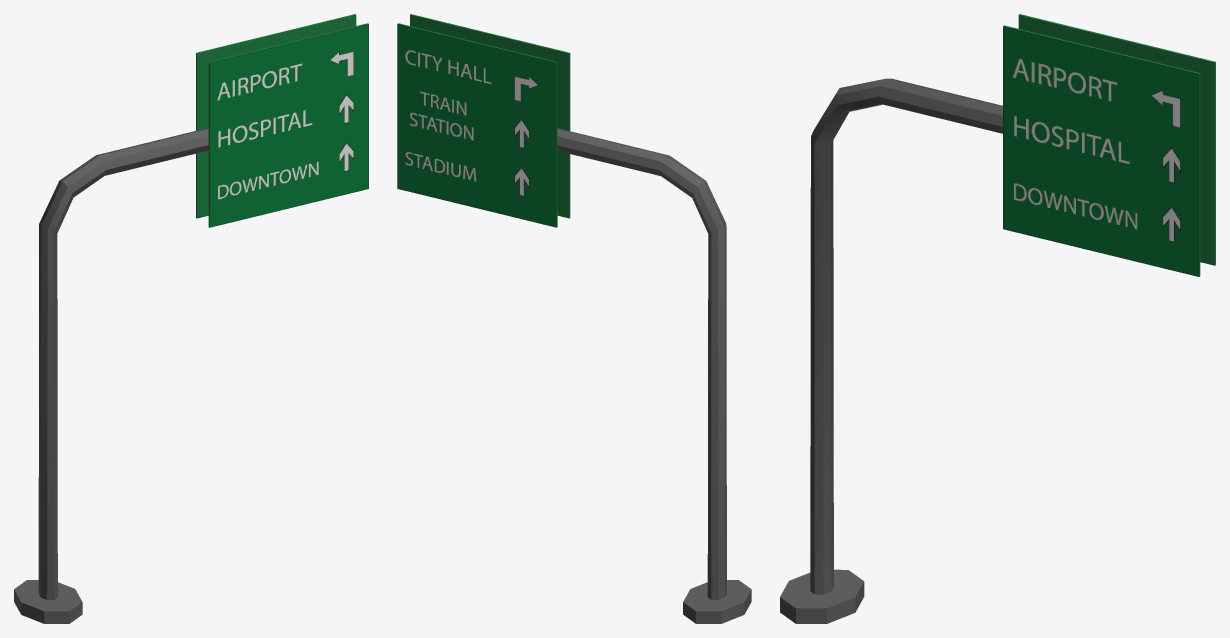
The model's file is road-sign-single.fbx.
3 views of the same model, side by side, from view 1: azimuth 30°, elevation 25°; view 2: azimuth 150°, elevation 25°; view 3: azimuth 330°, elevation 25° (orthographic). The views are drawn at different scales.
Visible parts, largest first — view 1: 2.1 road-sign-sinlge; view 2: 2.1 road-sign-sinlge; view 3: 2.1 road-sign-sinlge.
Boxes of the visible parts, left/top/right/bottom form: 2.1 road-sign-sinlge: left=14, top=14, right=368, bottom=623; 2.1 road-sign-sinlge: left=397, top=14, right=751, bottom=623; 2.1 road-sign-sinlge: left=780, top=14, right=1215, bottom=623.
Bounding box in the file's own units: 4.52 × 6.5 × 0.981.
